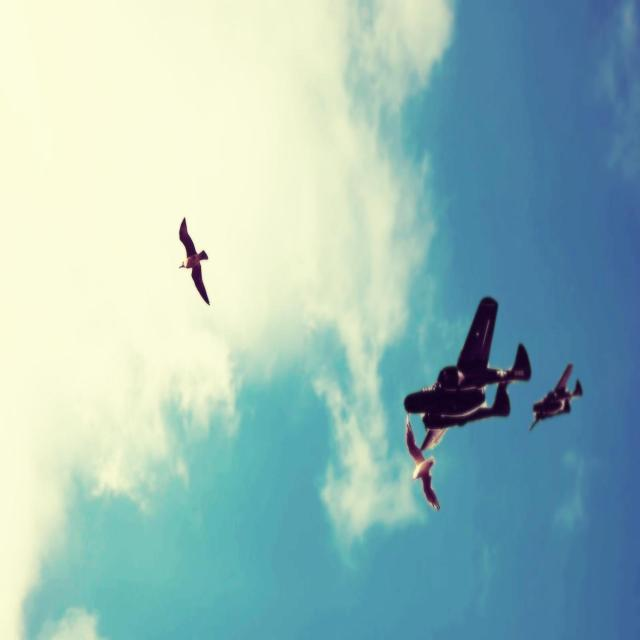airplane: (404, 294, 531, 452), (528, 362, 582, 431)
